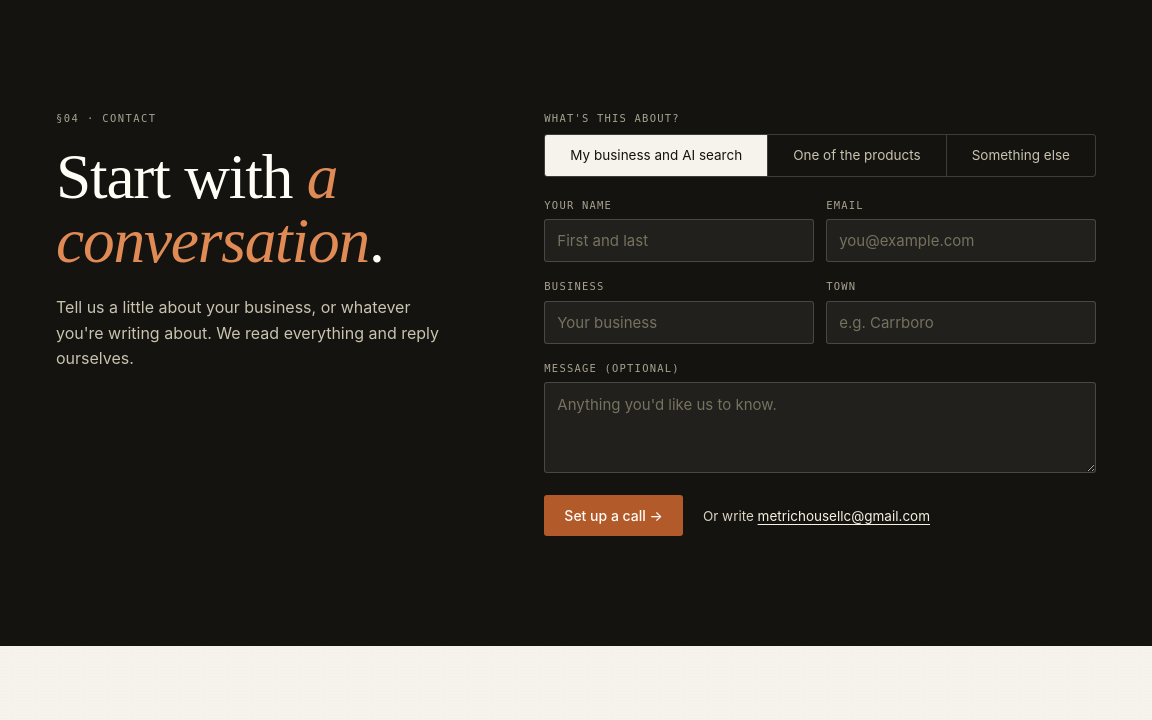
Test: Contact › sends the GEO subject and topic, and thanks on 2xx
This screenshot has width=1152, height=720.
Type "Pat" into the field with placeholder "First and last" at [679, 241], box x1=544 y1=220 x2=814 y2=262
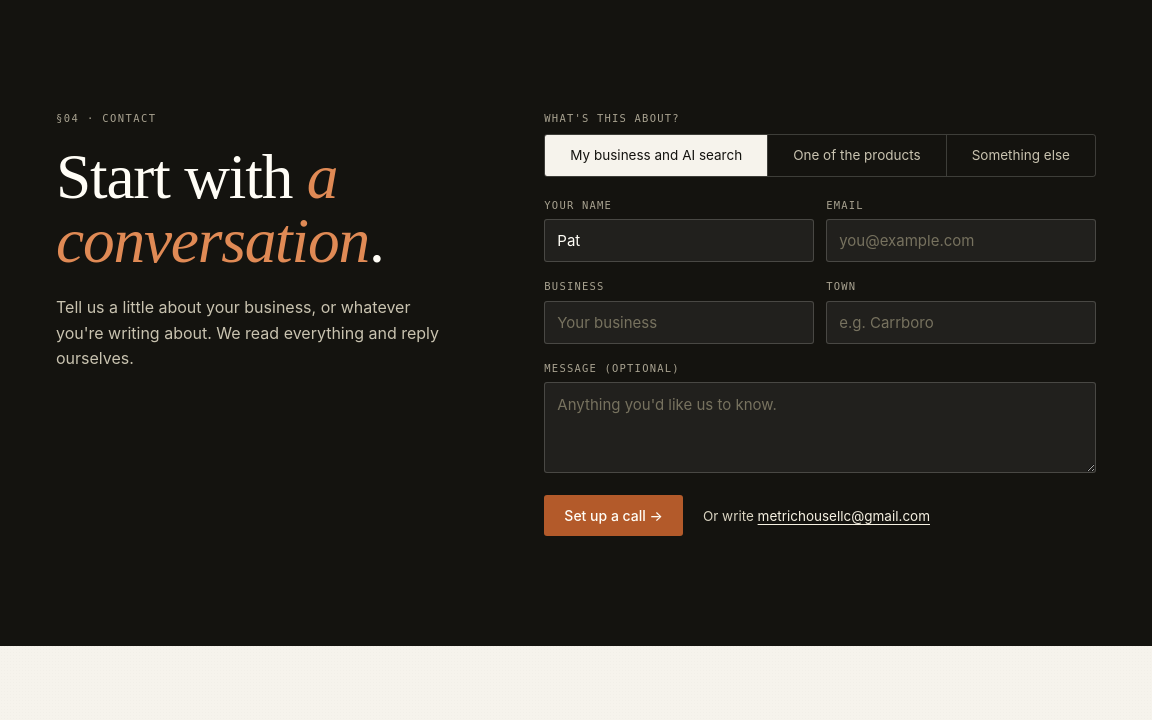
Type "pat@example.com" into the field with placeholder "you@example.com" at [961, 241], box x1=826 y1=220 x2=1096 y2=262
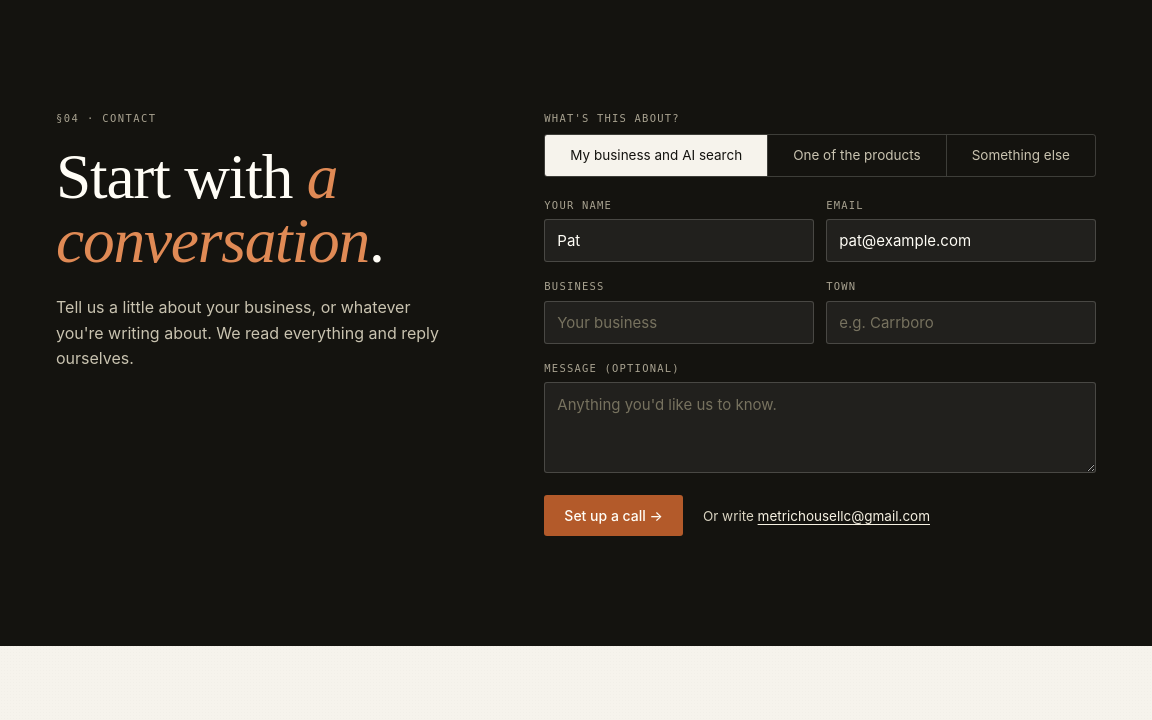
Type "Corner Cafe" into the field with placeholder "Your business" at [679, 322], box x1=544 y1=301 x2=814 y2=344
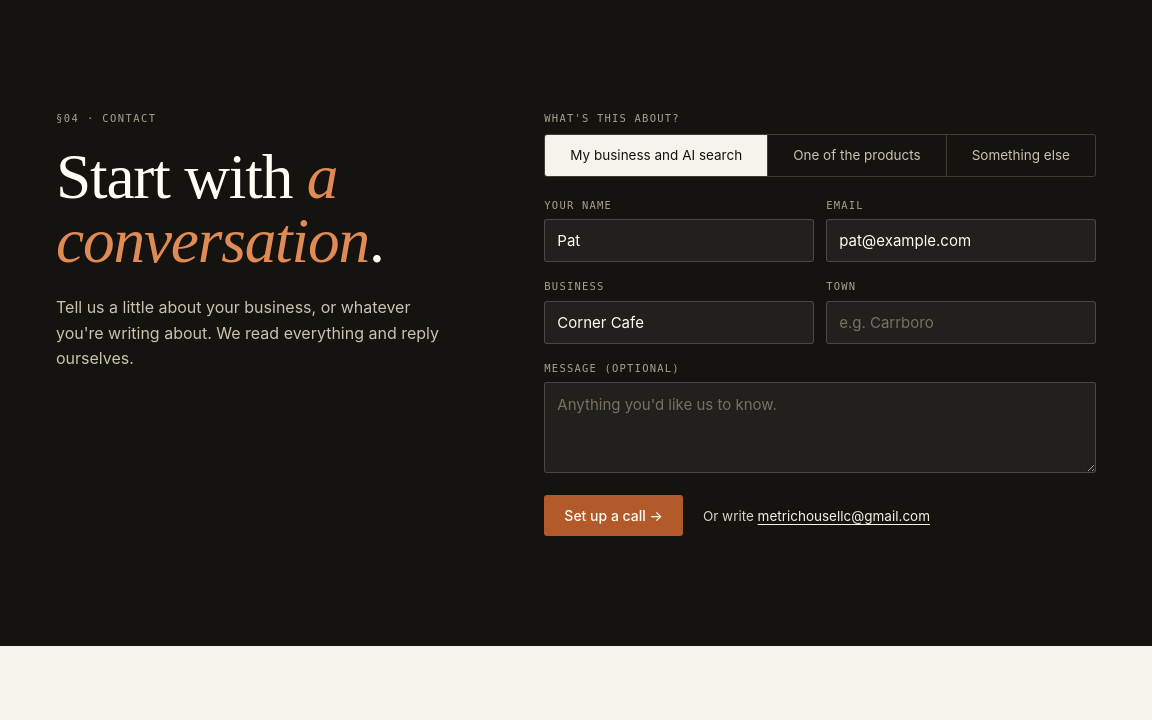
Type "Carrboro" into the field with placeholder "e.g. Carrboro" at [961, 322], box x1=826 y1=301 x2=1096 y2=344
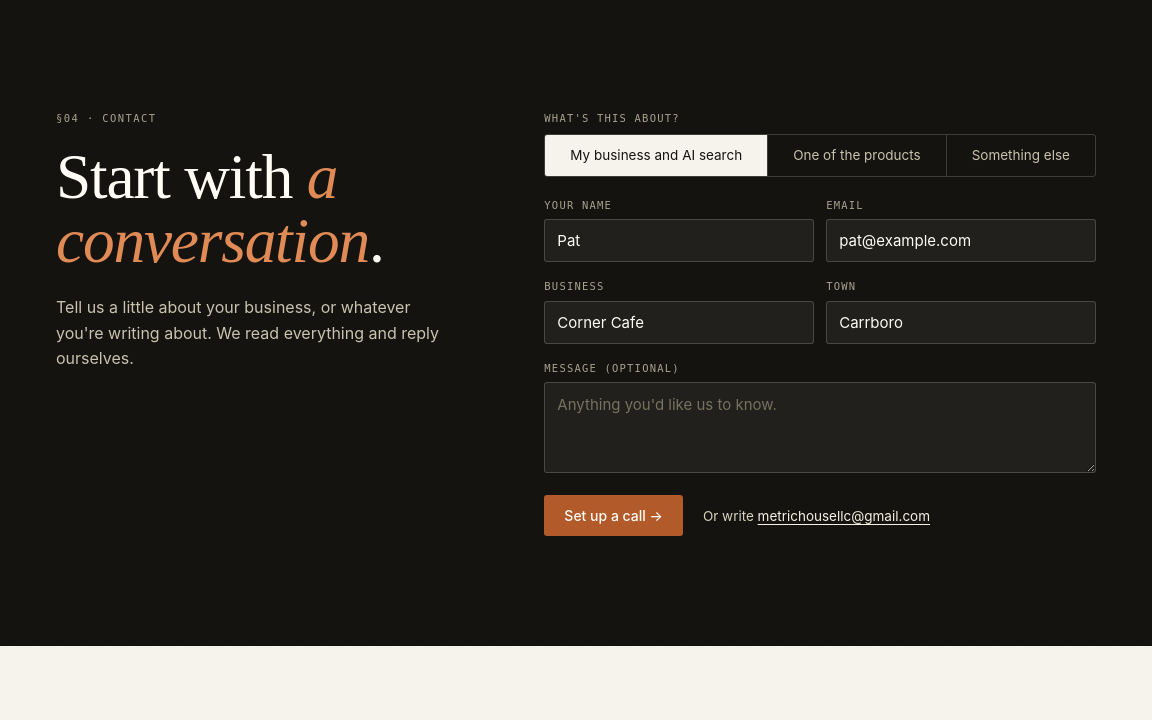
Click the button "Set up a call →" at [614, 516], box x1=544 y1=496 x2=683 y2=536
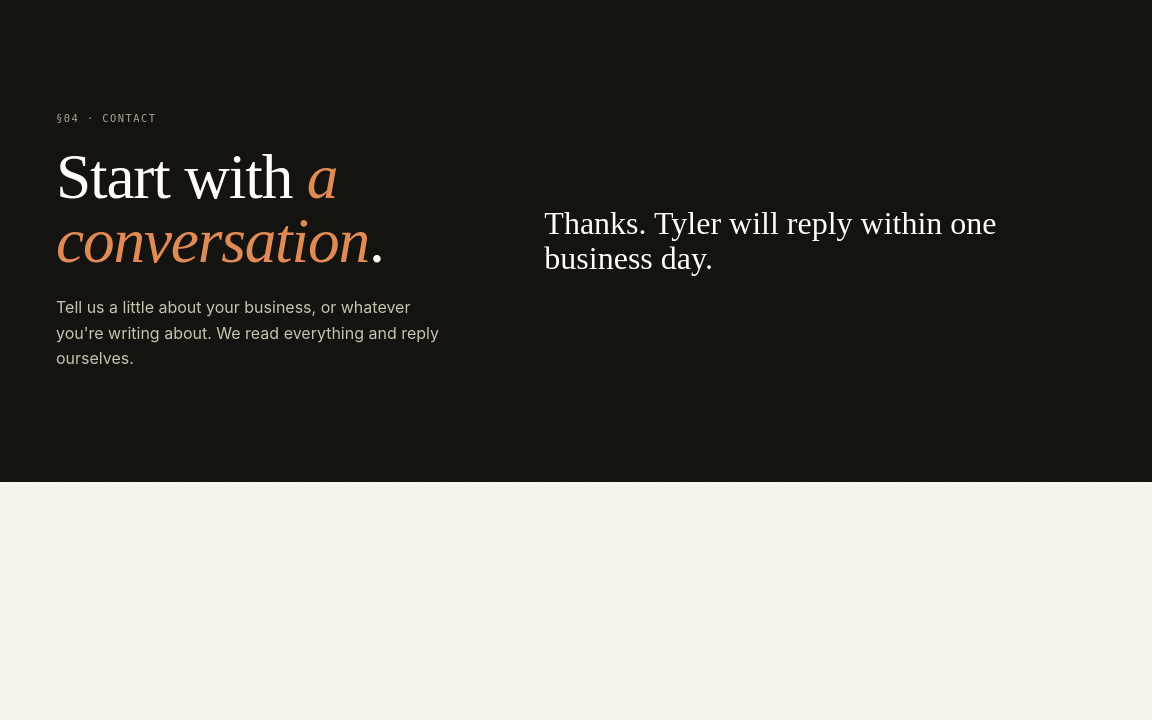
Now the text "Thanks. Tyler will reply within one business day." is shown, box x1=544 y1=205 x2=996 y2=276
